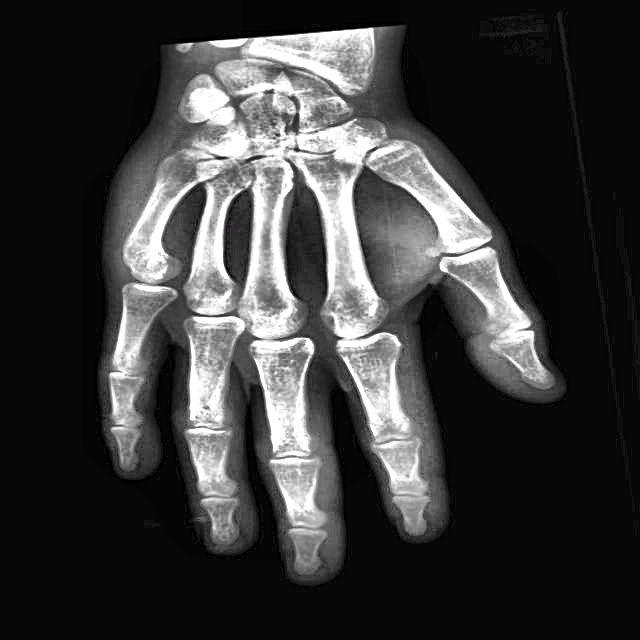Healthy: (80, 104, 514, 487)
